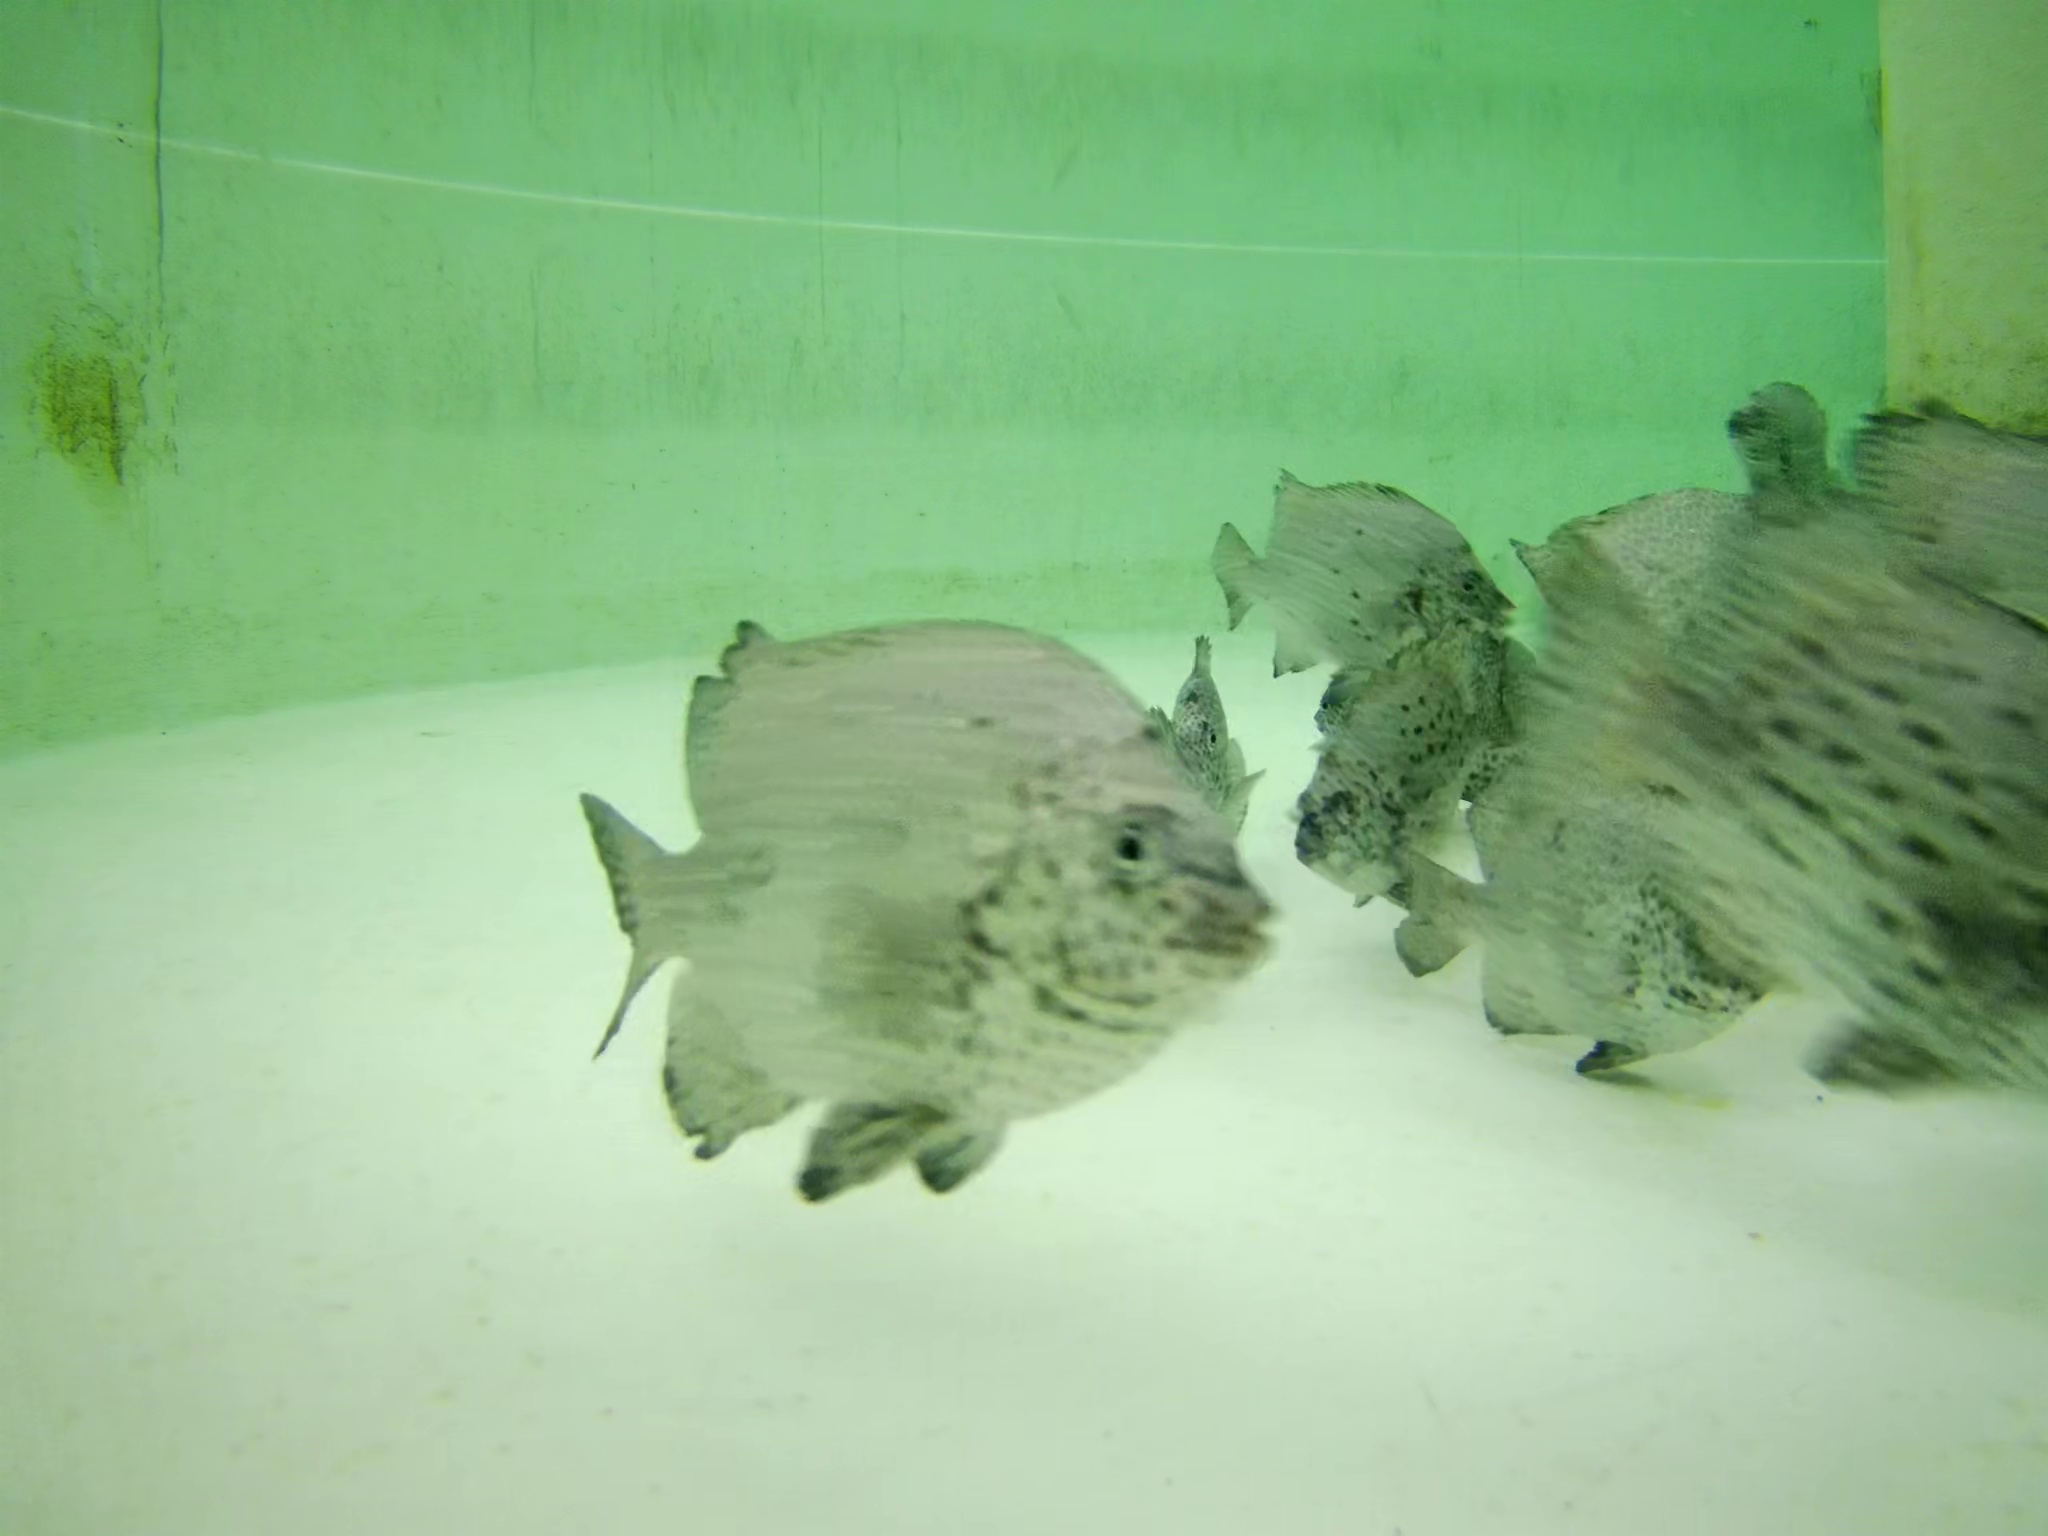fish: (553, 610, 1277, 1112), (1513, 486, 2048, 1091), (1398, 757, 1784, 1057), (1203, 463, 1522, 649), (1295, 629, 1513, 897), (1859, 400, 2048, 592), (1164, 650, 1258, 854), (1734, 360, 1835, 520)
